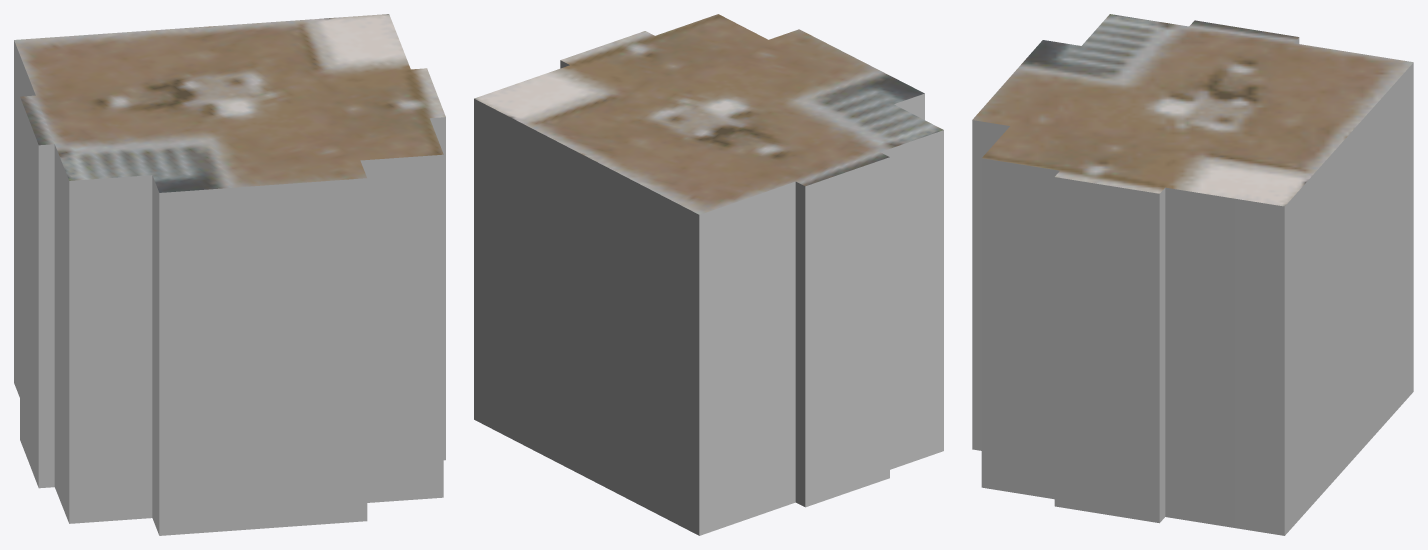
File: DEBW_0010007TxfC.gltf
3 views of the same model, side by side, from view 1: azimuth 30°, elevation 25°; view 2: azimuth 150°, elevation 25°; view 3: azimuth 270°, elevation 25° (orthographic). The views are drawn at different scales.
Parts seen in each view (by area): view 1: Z_UP; view 2: Z_UP; view 3: Z_UP.
Boxes of the visible parts, x1=… form: Z_UP: x1=14, y1=14, x2=445, y2=535; Z_UP: x1=474, y1=14, x2=943, y2=535; Z_UP: x1=972, y1=14, x2=1413, y2=535.
Bounding box in the file's own units: 18.76 × 14.96 × 18.18.
Materials: 2 (1 with a texture image).
